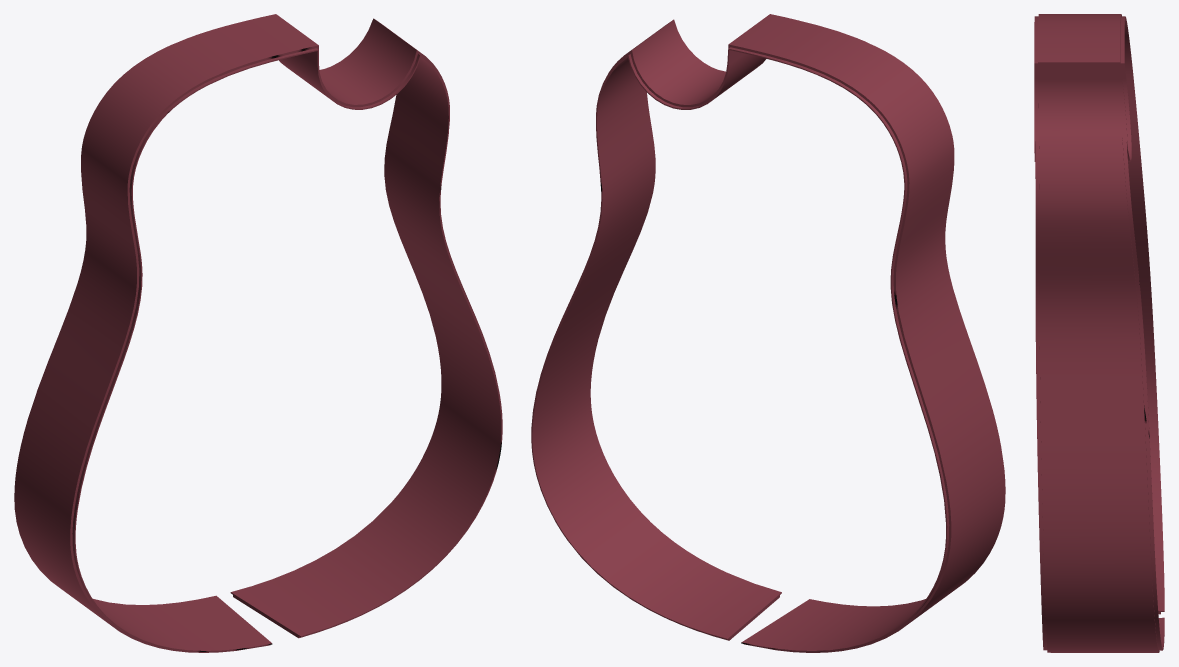
The model's file is Body_Sides_Florentine_Cutaway.glb.
3 views of the same model, side by side, from view 1: azimuth 30°, elevation 25°; view 2: azimuth 150°, elevation 25°; view 3: azimuth 270°, elevation 25° (orthographic). The views are drawn at different scales.
Visible parts, largest first — view 1: Body_Sides_Florentine_Cutaway.001_Baked; view 2: Body_Sides_Florentine_Cutaway.001_Baked; view 3: Body_Sides_Florentine_Cutaway.001_Baked.
Boxes of the visible parts, left/top/right/bottom form: Body_Sides_Florentine_Cutaway.001_Baked: left=14, top=14, right=502, bottom=652; Body_Sides_Florentine_Cutaway.001_Baked: left=531, top=14, right=1005, bottom=652; Body_Sides_Florentine_Cutaway.001_Baked: left=1034, top=14, right=1164, bottom=652.
Bounding box in the file's own units: 0.3916 × 0.5137 × 0.1068.
Materials: 1 (1 with a texture image).
